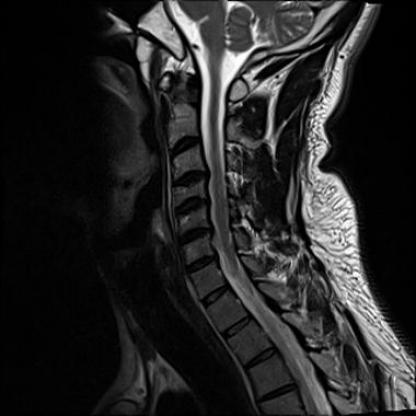Disc Bulgerotation: (171, 196, 210, 215), (170, 171, 212, 188), (176, 225, 215, 243), (167, 136, 205, 154), (183, 256, 219, 271)
Disc Protrusionrotation: (183, 256, 219, 271)
